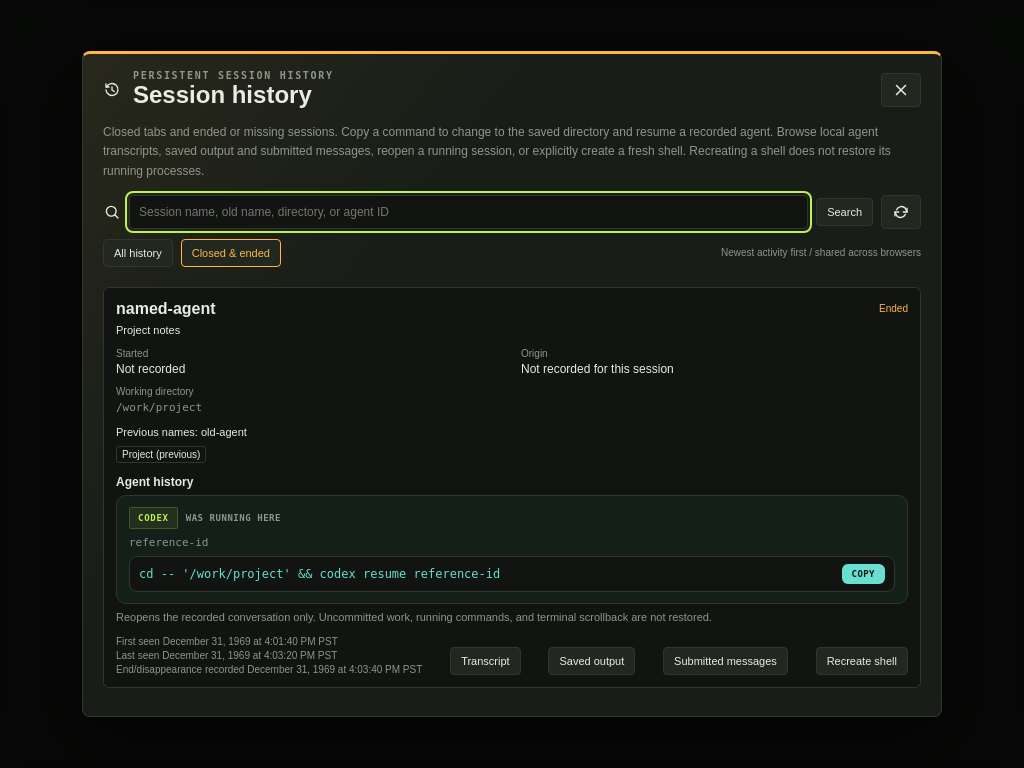
it: SessionHistoryDialog › opens saved output for an ended session without recreating its shell
Click the button with aria-label "Transcript for named-agent" at coordinates (485, 661), box [450, 647, 521, 675]
(page scrolled)
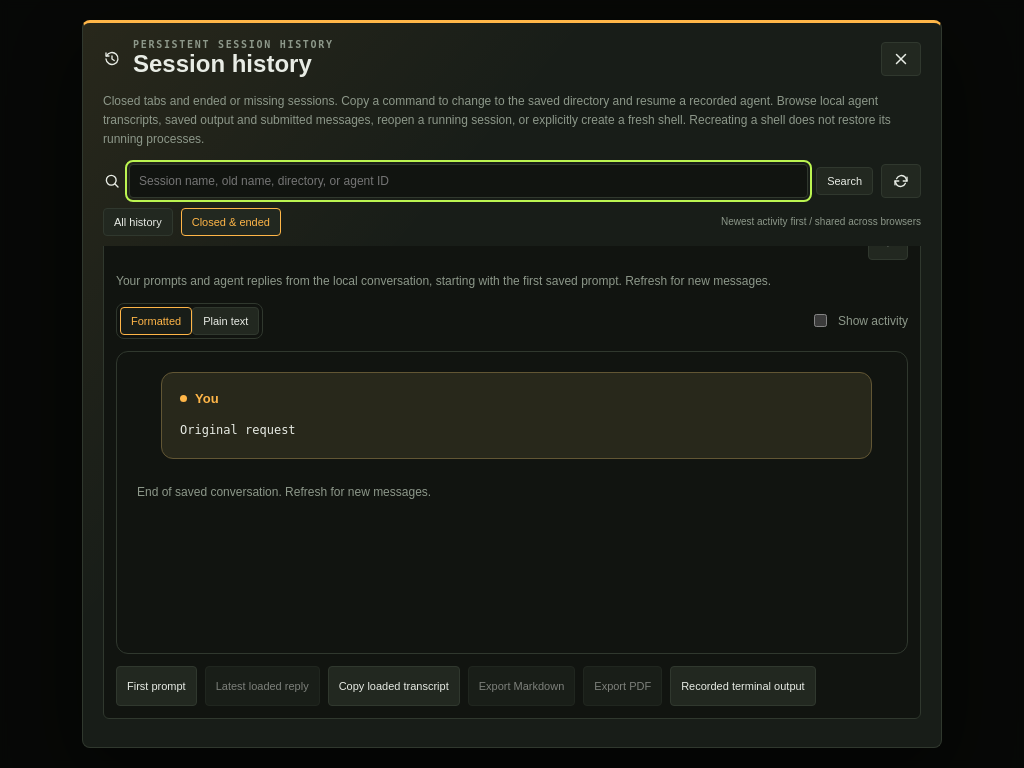
Now the text "Original request" is shown, box [180, 423, 296, 437]
Click the button "Recorded terminal output" at coordinates (743, 686), box [670, 666, 816, 706]
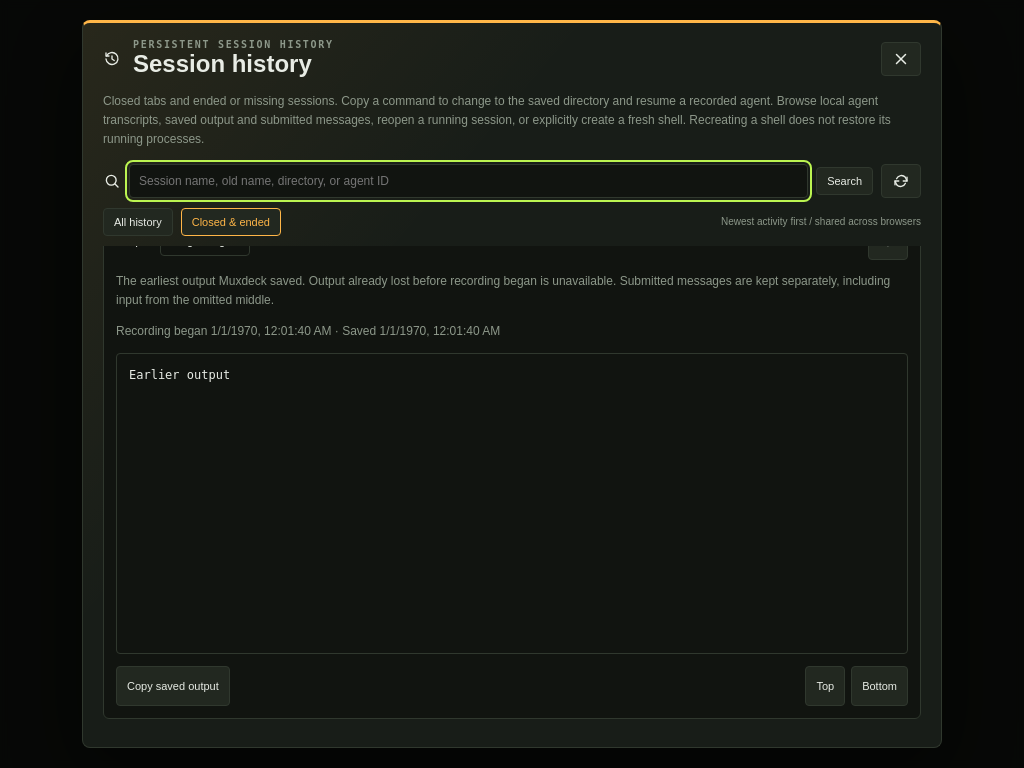
Now the text "Earlier output" is shown, box [116, 353, 908, 654]
Now the text "Original request" is gone
